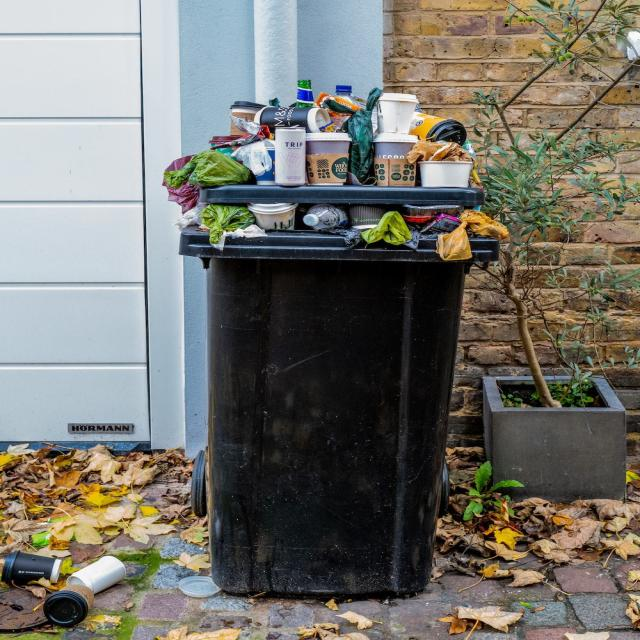cardboard: (7, 536, 137, 624), (310, 123, 415, 182)
metal: (269, 116, 313, 189)
trash: (156, 75, 512, 267)
